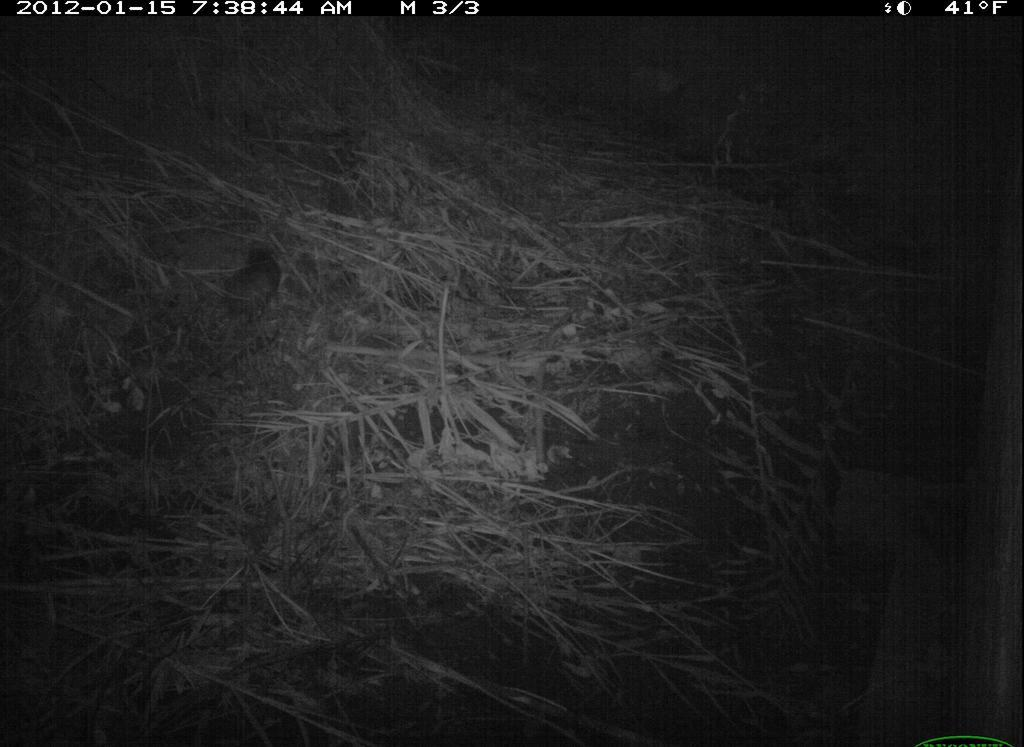opossum: (214, 237, 305, 341)
